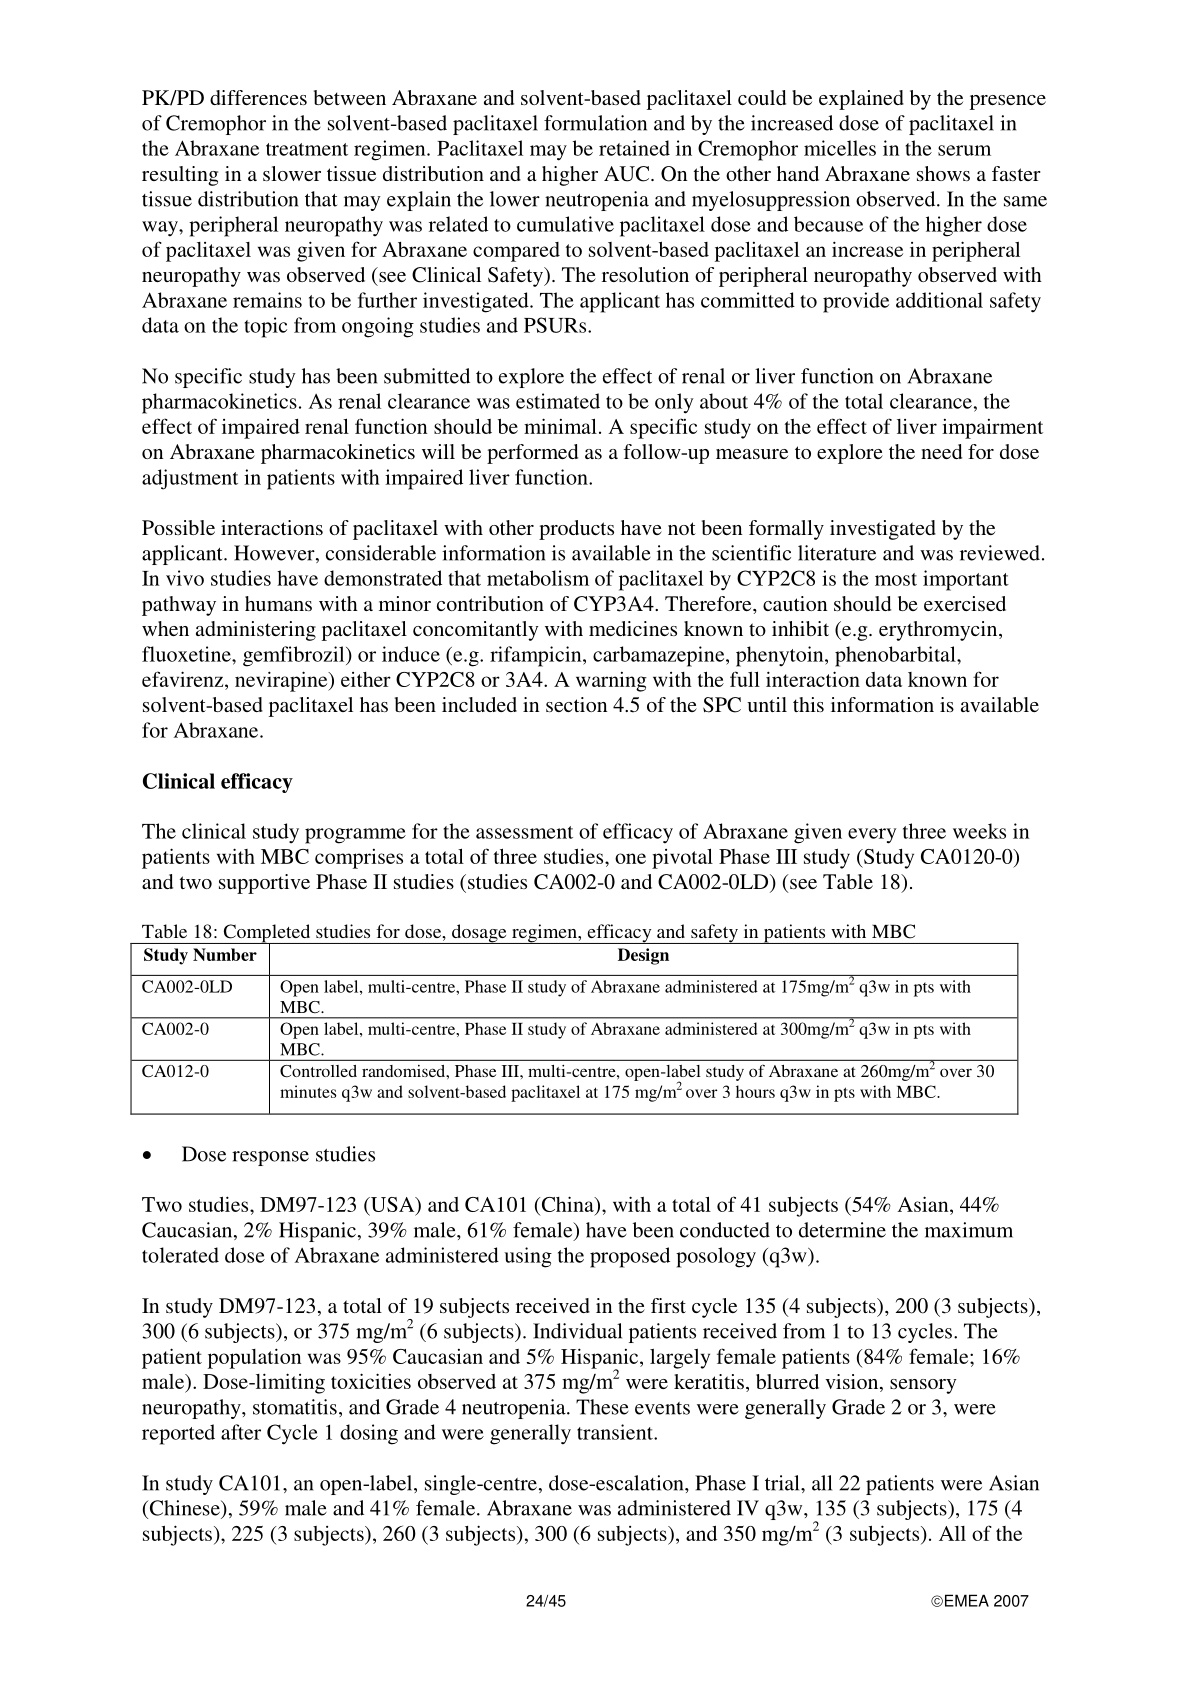full_lined: (129, 942, 1020, 1115)
